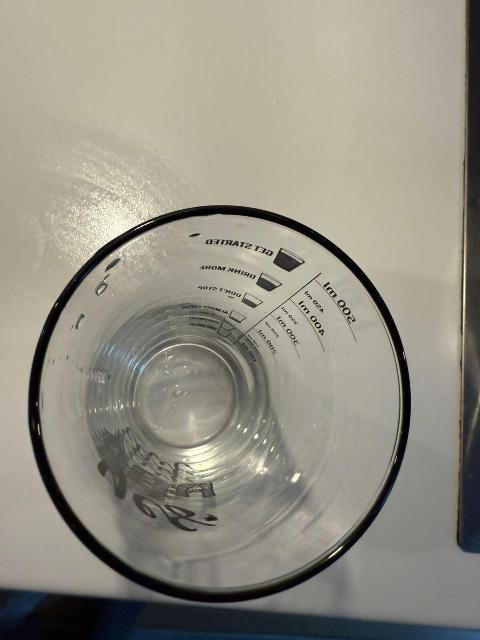Cam: (26, 202, 412, 613)
